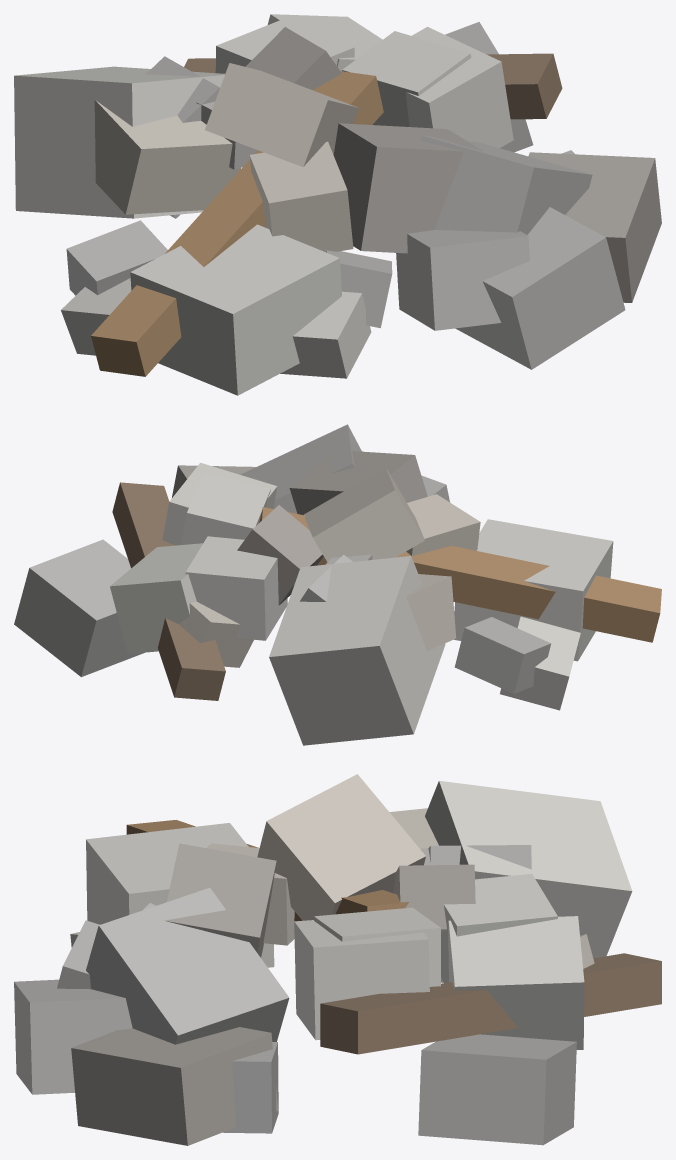
File: ws_fx_debris.glb
3 renders of one model, top to bottom at view 1: azimuth 30°, elevation 25°; view 2: azimuth 150°, elevation 25°; view 3: azimuth 270°, elevation 25°, orthographic. The views are drawn at different scales.
Visible parts, largest first — view 1: ws_fx_debris; view 2: ws_fx_debris; view 3: ws_fx_debris.
Boxes of the visible parts, <box> form: ws_fx_debris: <box>14,14,661,395</box>; ws_fx_debris: <box>14,424,661,745</box>; ws_fx_debris: <box>14,774,661,1145</box>.
Size of the model in its own units: 1.12 by 0.427 by 1.03.
